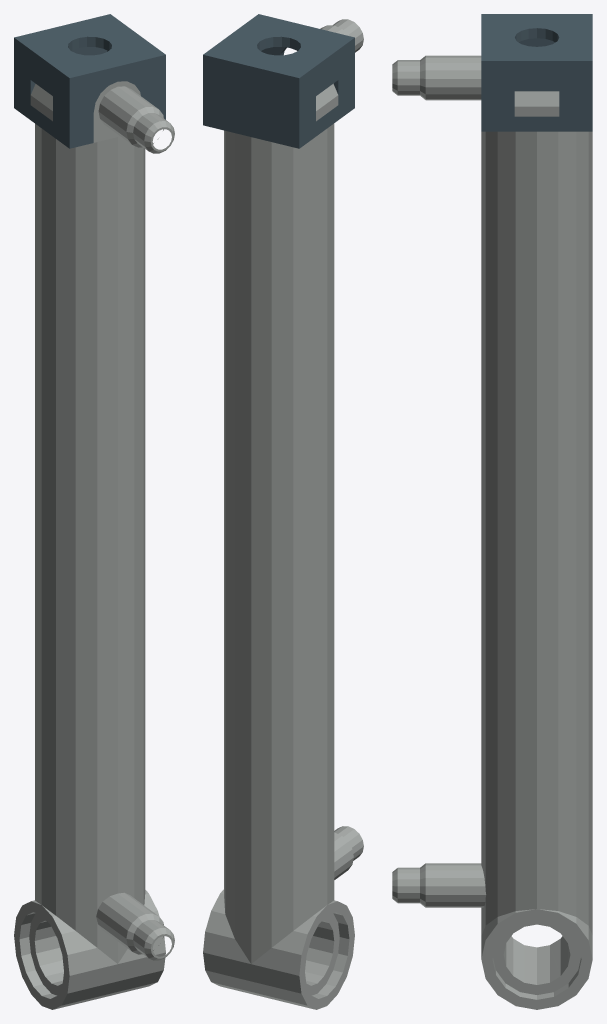
The picture shows the model from 3 angles, left to right: view 1: azimuth 30°, elevation 25°; view 2: azimuth 150°, elevation 25°; view 3: azimuth 270°, elevation 25°; orthographic projection.
Visible parts, largest first — view 1: world; view 2: world; view 3: world.
Boxes of the visible parts, x1,y1,x2,y2 form: world: (14,14,174,1009); world: (203,14,363,1009); world: (392,14,592,1009).
Bounding box in the file's own units: 0.008 × 0.0752 × 0.0144.
